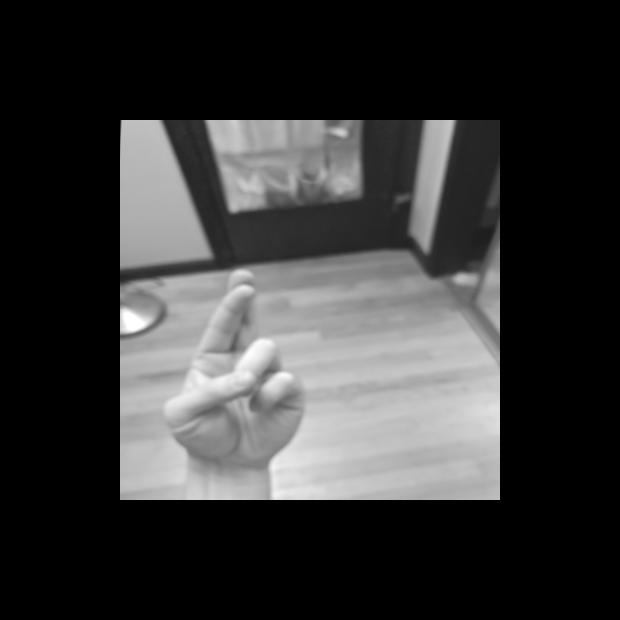Q: (157, 259, 321, 467)
